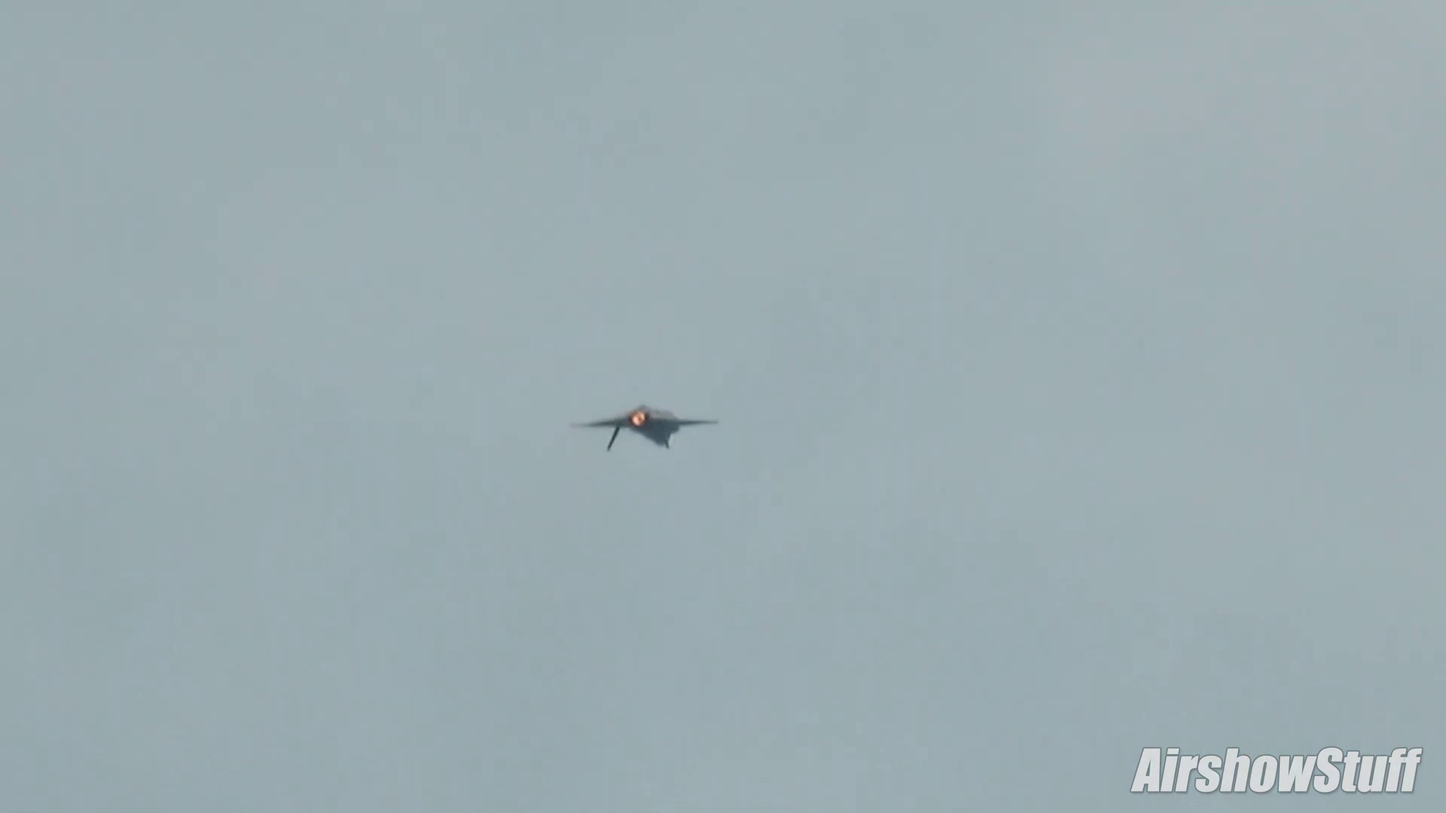F35: (565, 399, 725, 455)
